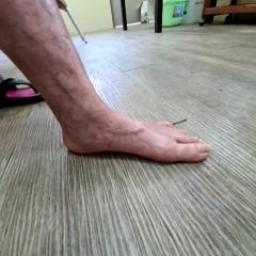Medial View -Left Foot-: (38, 90, 232, 186)
